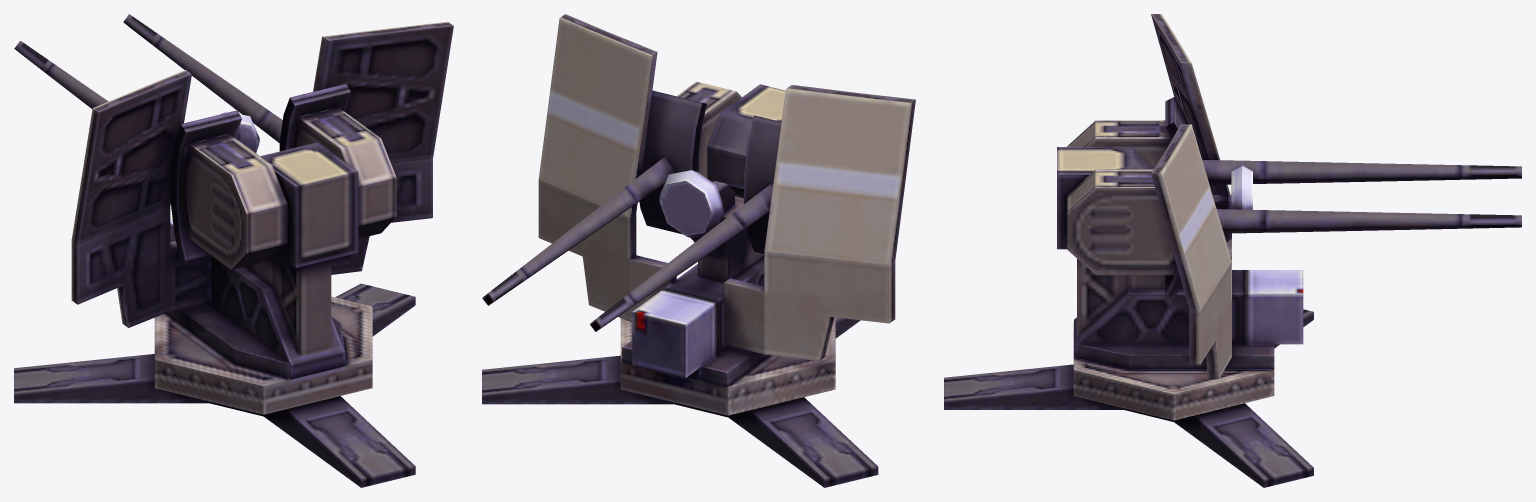
File: DGZZ_enemy-rd15_628b5aee.glb
The picture shows the model from 3 angles, left to right: view 1: azimuth 30°, elevation 25°; view 2: azimuth 150°, elevation 25°; view 3: azimuth 270°, elevation 25°; orthographic projection. The views are drawn at different scales.
Parts seen in each view (by area): view 1: rd15; view 2: rd15; view 3: rd15.
Boxes of the visible parts, x1,y1,x2,y2 form: rd15: (14, 14, 453, 487); rd15: (482, 14, 915, 487); rd15: (944, 14, 1521, 487).
Size of the model in its own units: 1.7 by 1.33 by 2.3.
Materials: 1 (1 with a texture image).
